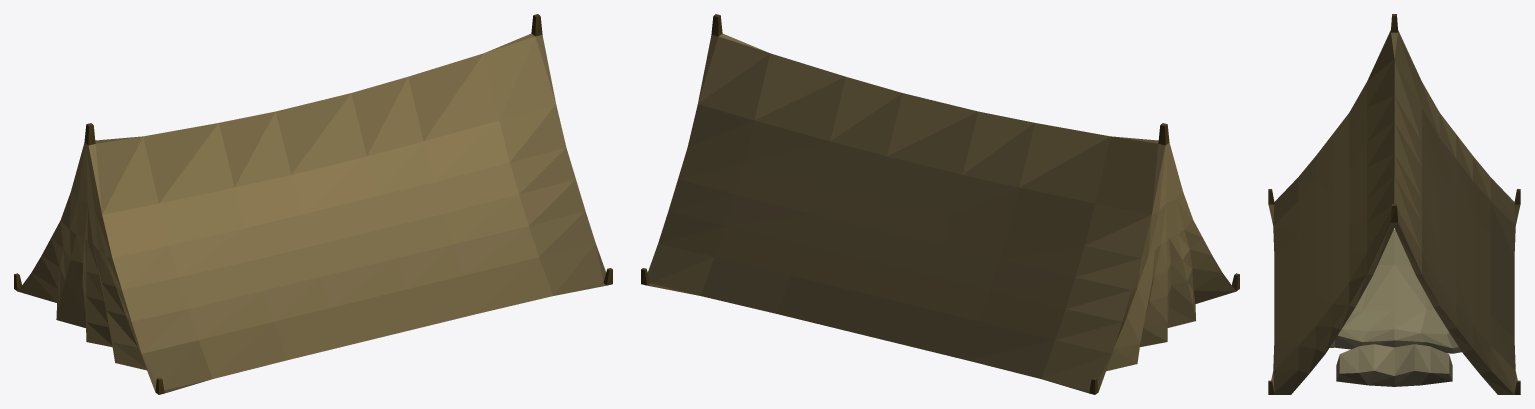
File: Object_Tent_2022-04-28_18-00-11.obj
The picture shows the model from 3 angles, left to right: view 1: azimuth 30°, elevation 25°; view 2: azimuth 150°, elevation 25°; view 3: azimuth 270°, elevation 25°; orthographic projection. The views are drawn at different scales.
Parts seen in each view (by area): view 1: Object_Tent_2022-04-28_18-00-11.obj; view 2: Object_Tent_2022-04-28_18-00-11.obj; view 3: Object_Tent_2022-04-28_18-00-11.obj.
Boxes of the visible parts, <box> form: Object_Tent_2022-04-28_18-00-11.obj: <box>14,14,612,394</box>; Object_Tent_2022-04-28_18-00-11.obj: <box>641,14,1239,394</box>; Object_Tent_2022-04-28_18-00-11.obj: <box>1268,14,1520,394</box>.
Size of the model in its own units: 384 by 175 by 212.
